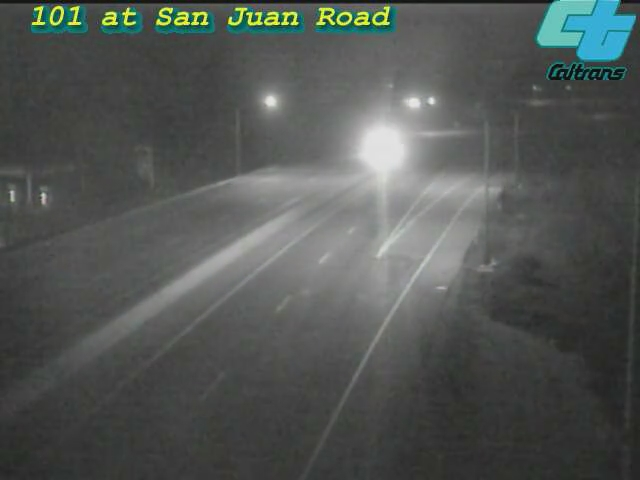vehicle: (352, 123, 402, 173)
